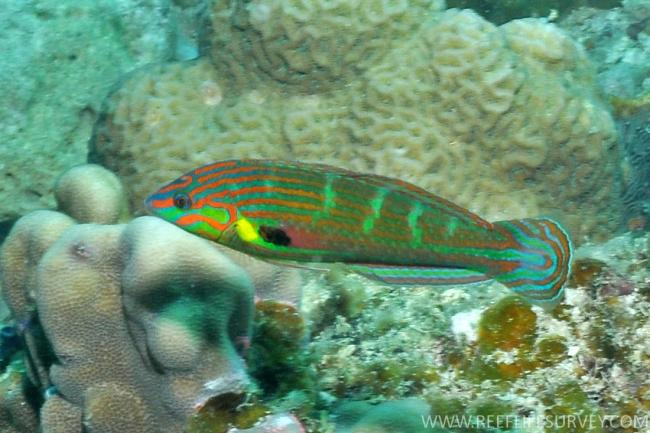fish: (143, 158, 573, 304)
